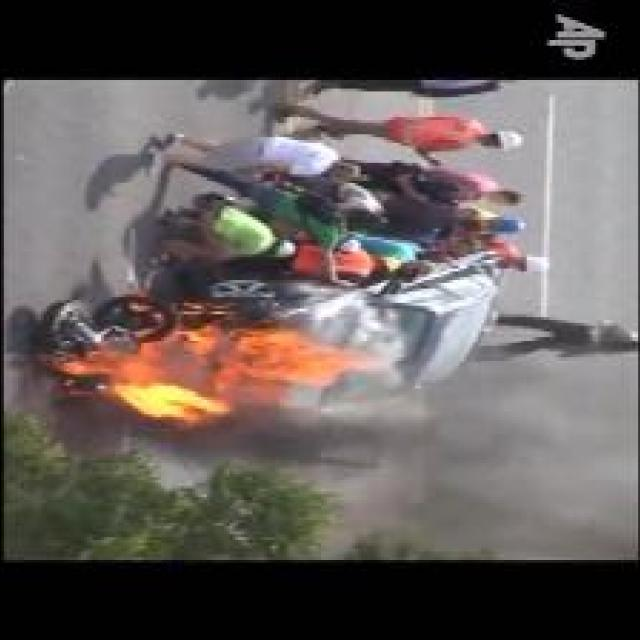Fire: (61, 302, 388, 429)
